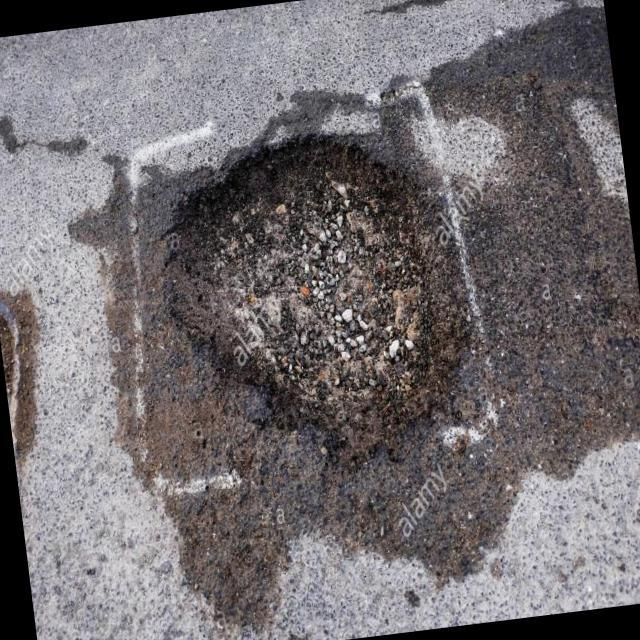Pothole: (171, 136, 471, 466)
